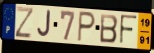7: (60, 9, 76, 42)
B: (99, 13, 119, 44)
F: (119, 14, 139, 47)
J: (36, 9, 51, 39)
P: (76, 10, 97, 44)
Z: (14, 6, 35, 40)
